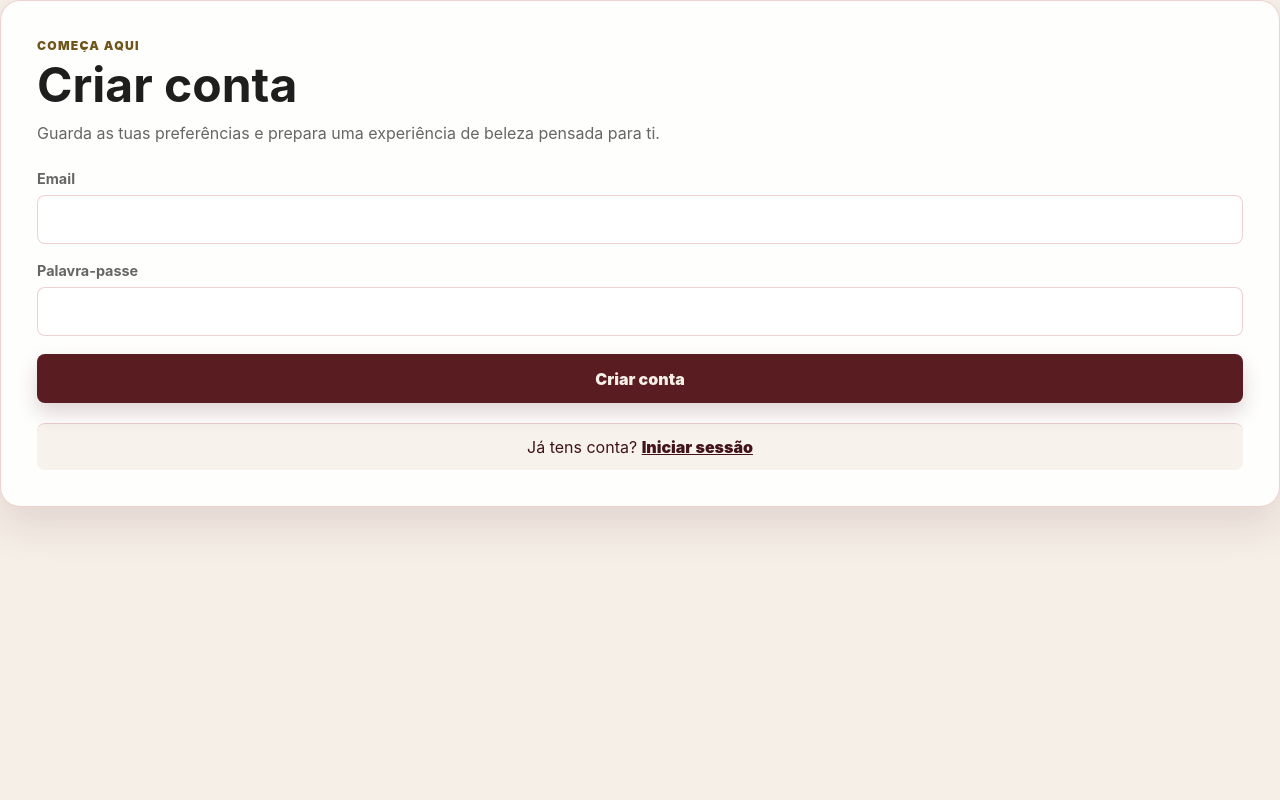
RegisterPage › mostra o erro e volta a disponibilizar a submissão
Type "nova@example.test" into the field labelled "Email". click: (640, 219)
box: [37,195,1243,244]
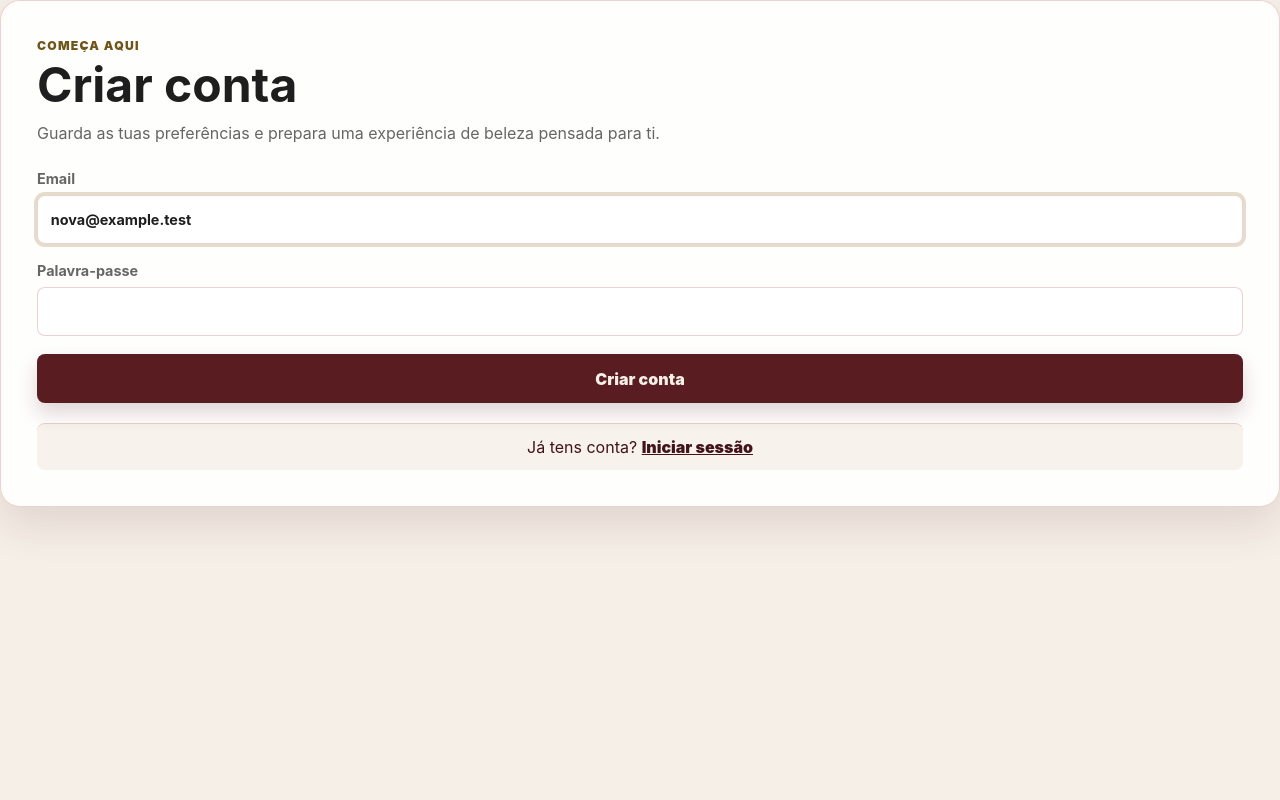
Type "Segura123" into the password field labelled "Palavra-passe". click: (640, 311)
box: [37,287,1243,336]
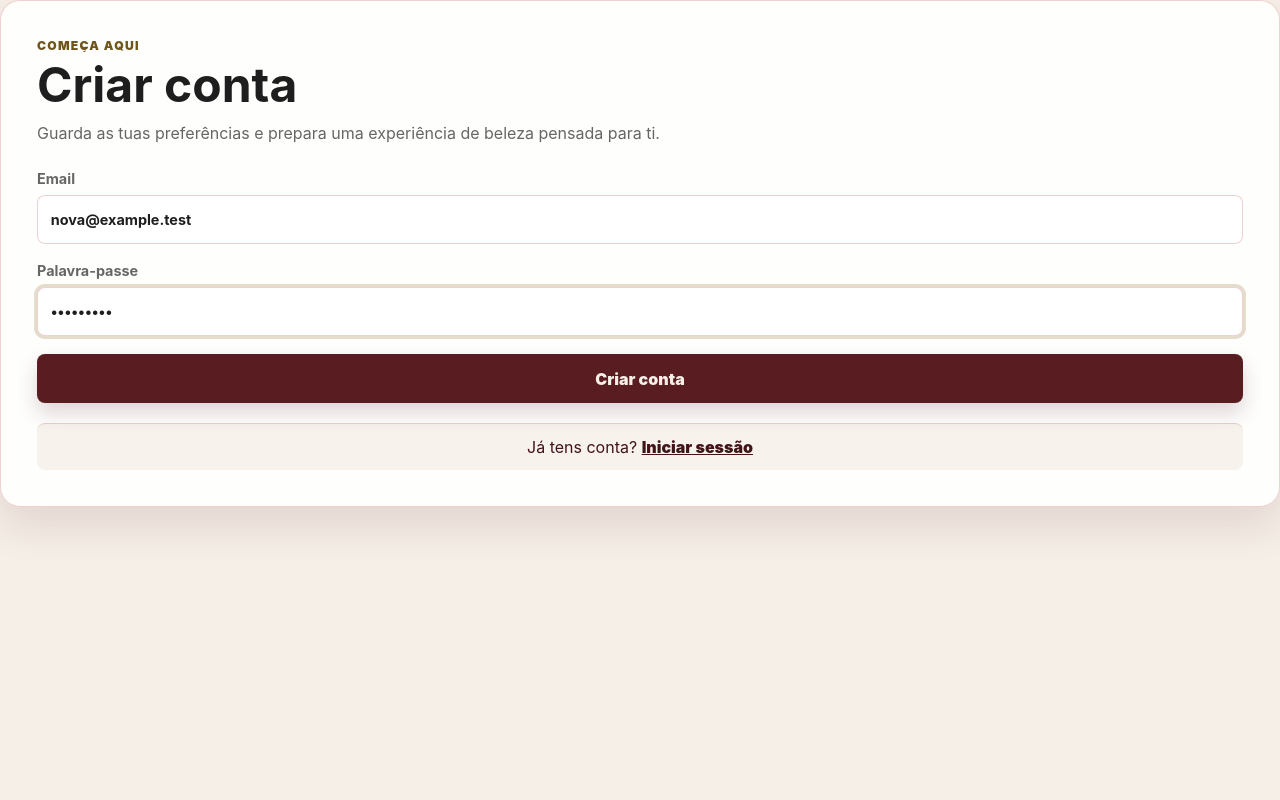
Click the button "Criar conta". click: click(640, 379)
box: [37,354,1243,403]
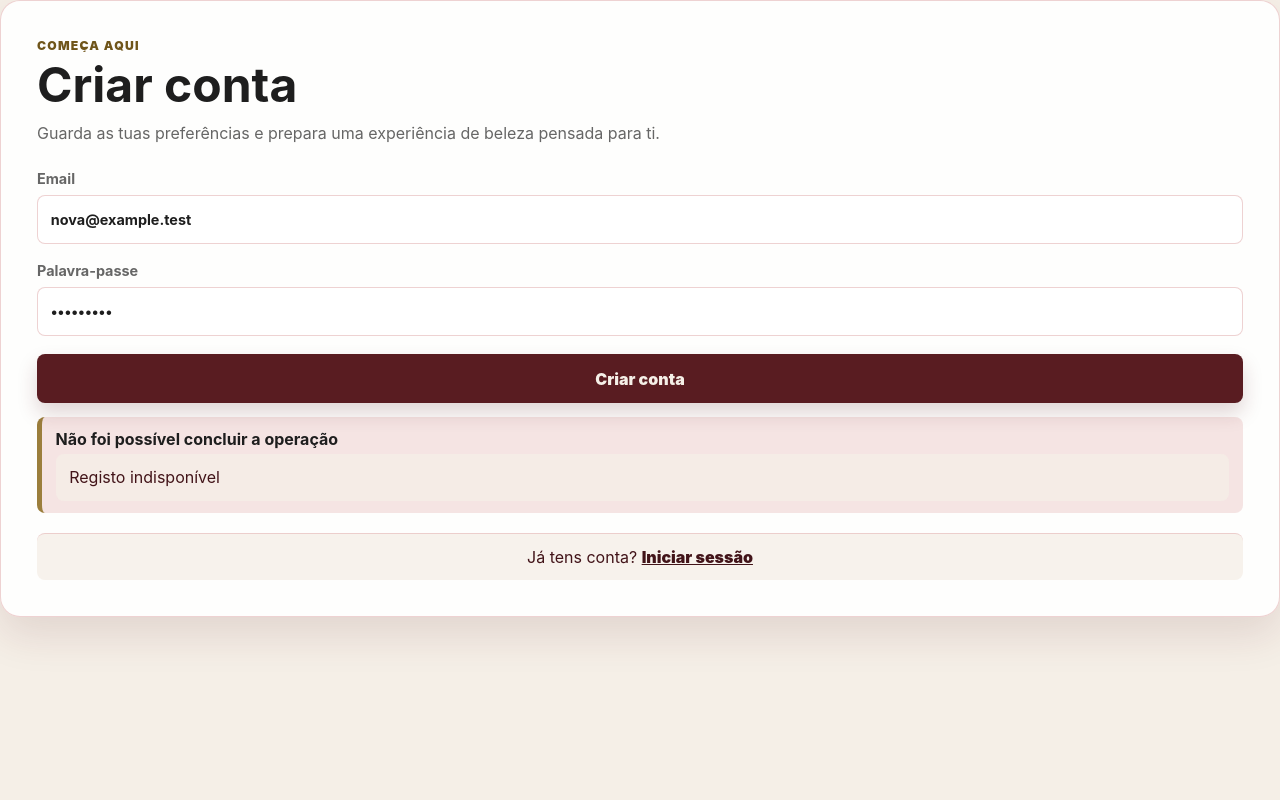
expect the message shows "Registo indisponível": met, box [69,467,220,487]
